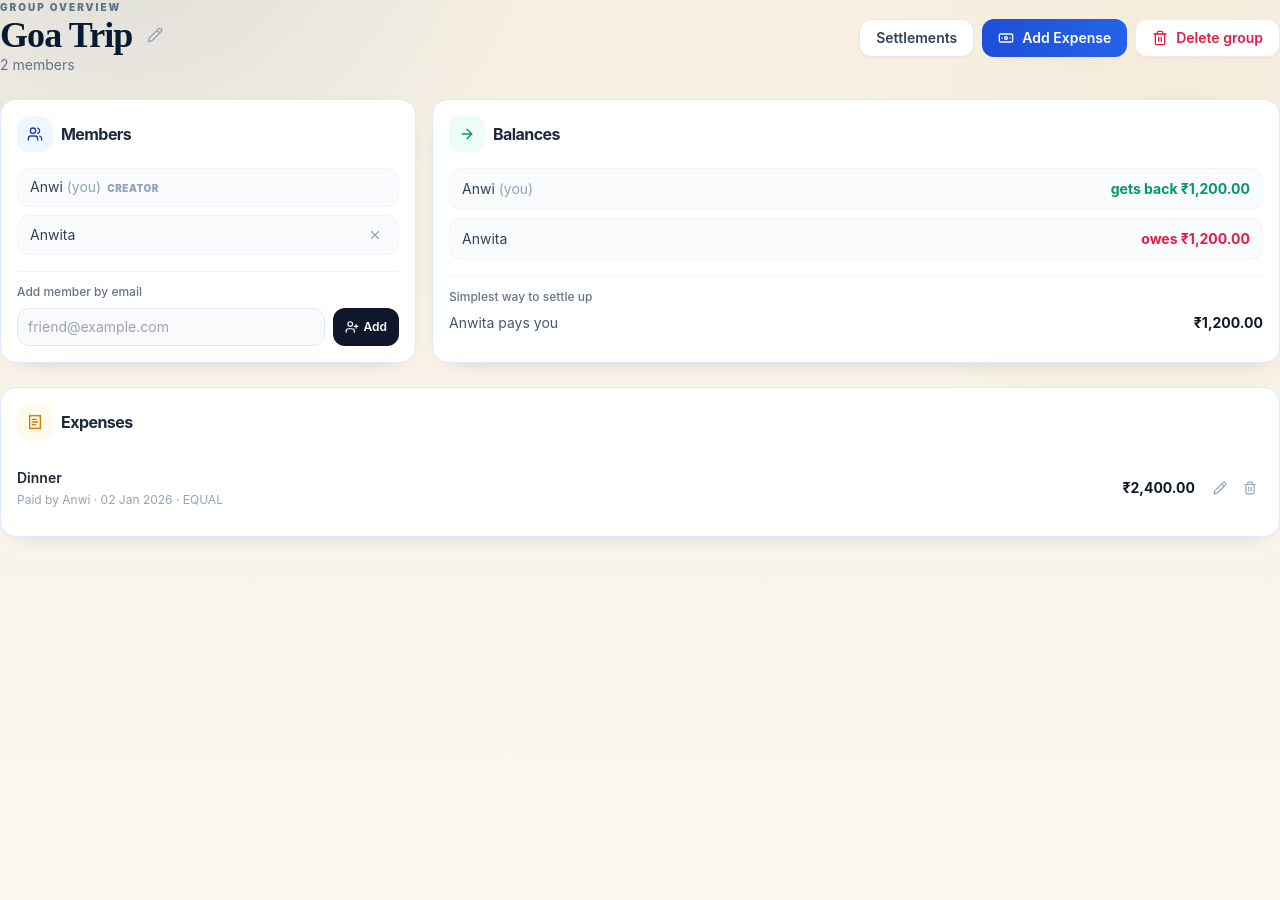
Test: GroupDetails › delete group needs confirmation; cancelling deletes nothing
Click the button "Delete group": [1208, 38] box [1135,18,1279,56]
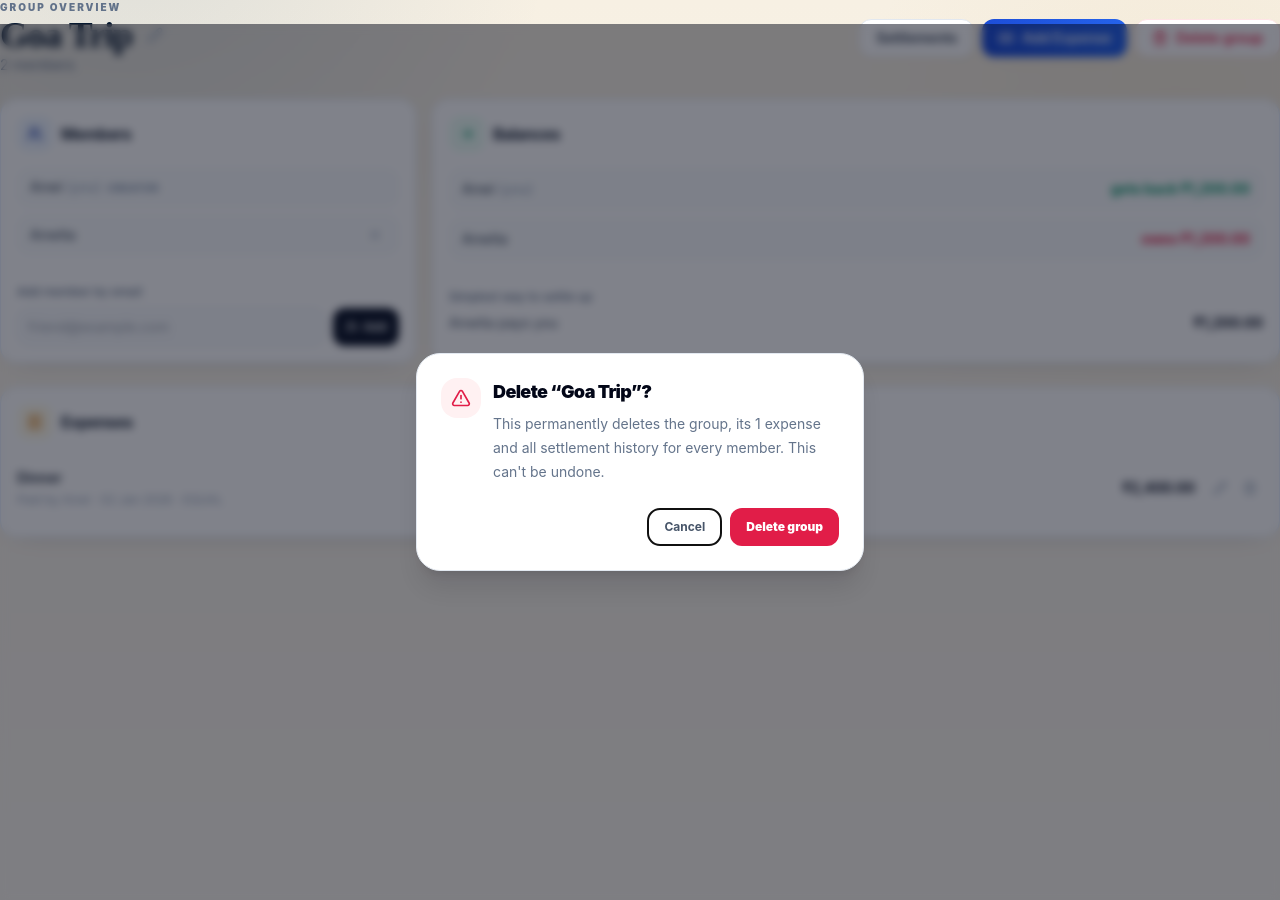
Expected: the text "permanently deletes the group, its 1 expense" is shown, [493,415,821,480]
Click the button "Cancel": [685, 527] box [648,508,722,546]
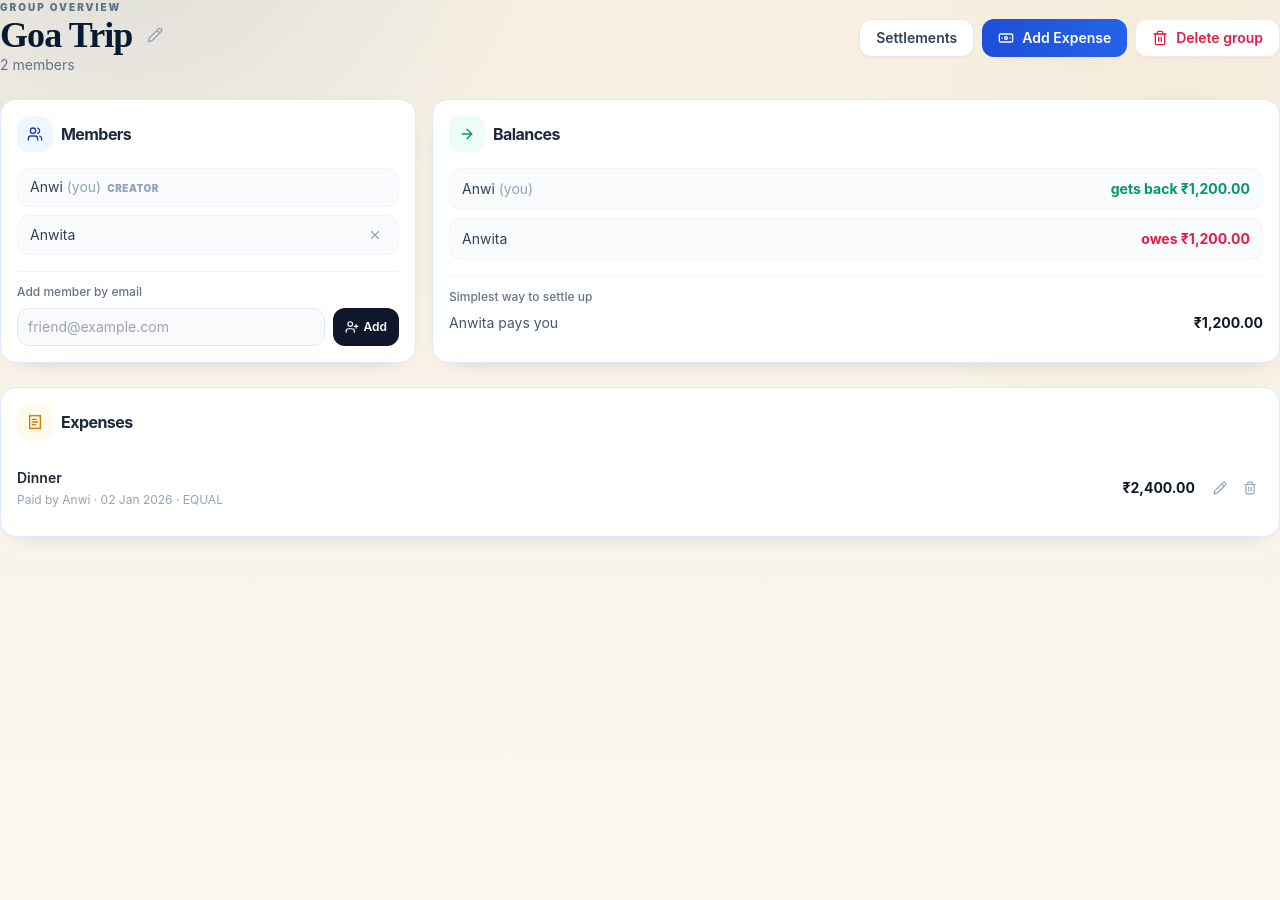
Expected: the dialog is gone
